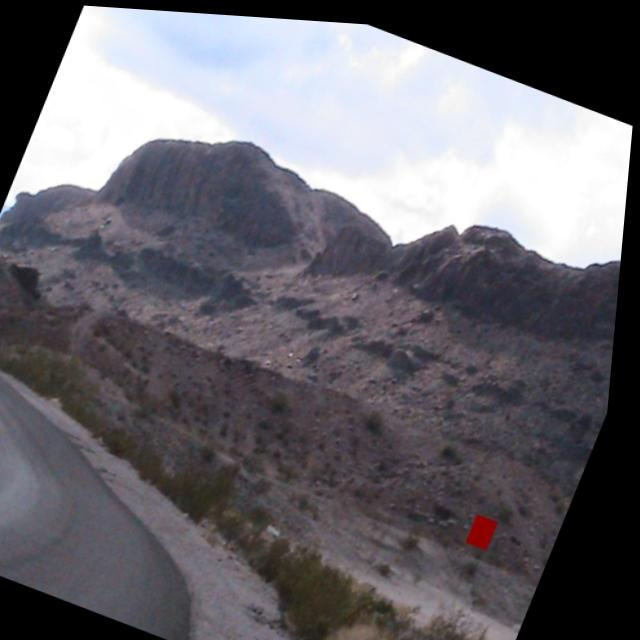RedSquare: (470, 503, 511, 549)
